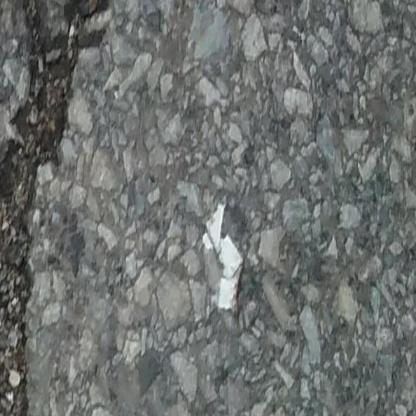Cracks: (0, 0, 120, 416)
